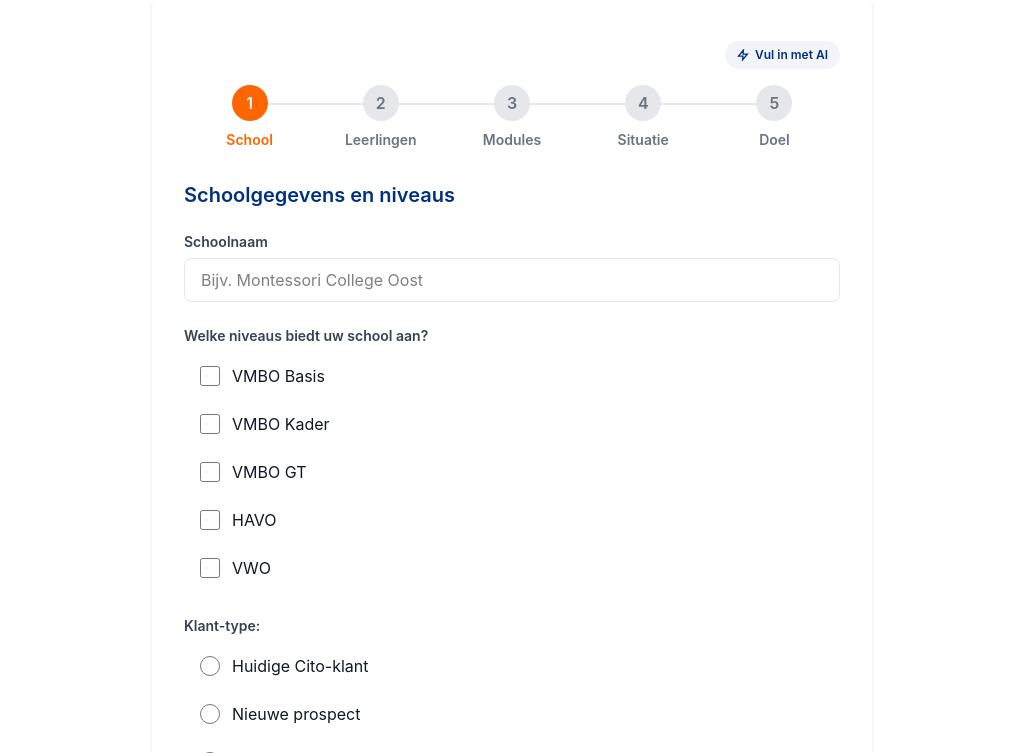
Test: WizardShell - Step rendering and navigation › "Volgende stap" button advances to step 2 when step 1 is valid
Note: Fill required fields for step 1
Type "Test School" into the field labelled "Schoolnaam" at point(512, 280), box top-left (184, 258), bottom-right (840, 302)
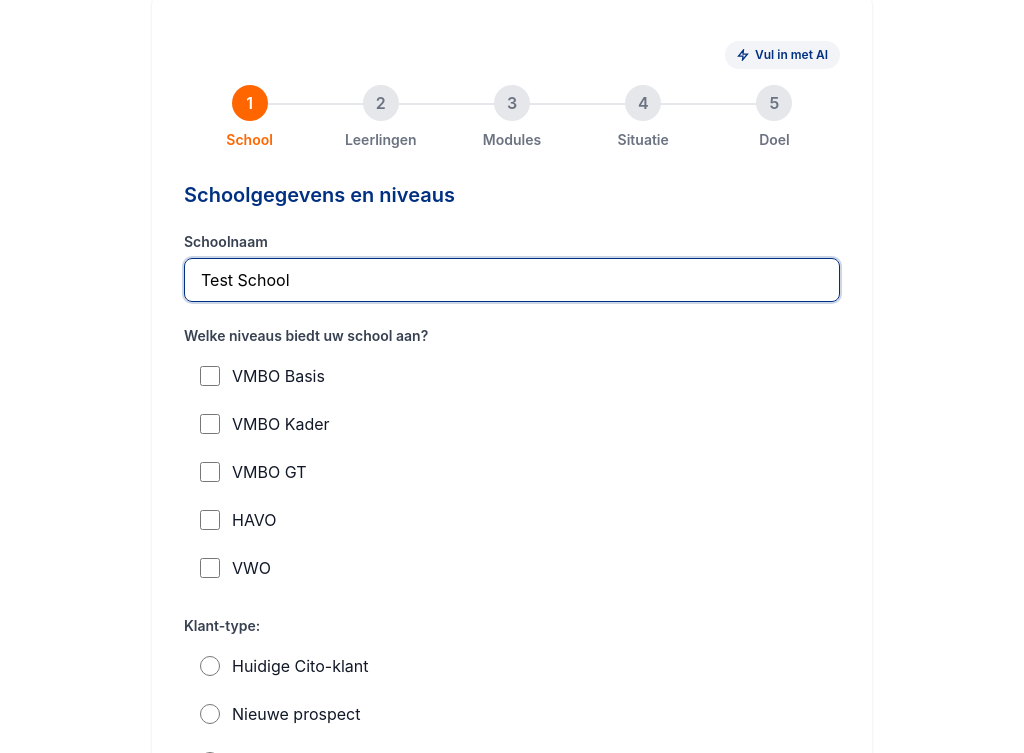
Click the checkbox labelled "HAVO" at point(210, 520), box top-left (200, 510), bottom-right (220, 530)
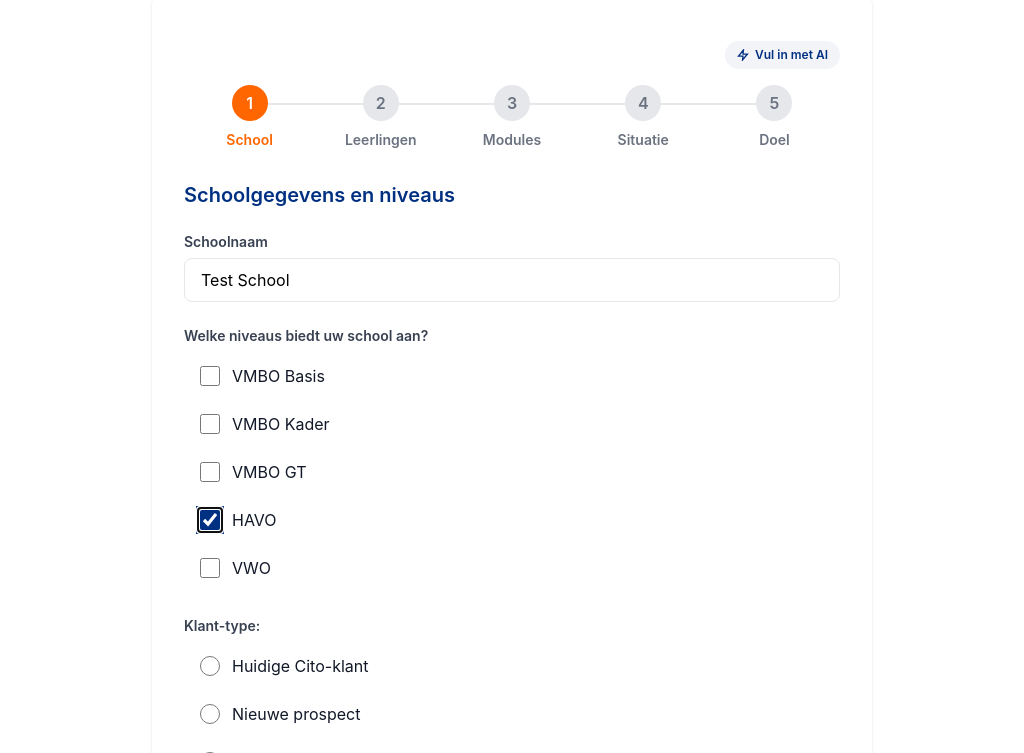
Note: Phase 27 Plan 03 (R3 + R4) — Step 1 has 3 additional required fields.
Click the radio button labelled "Huidige Cito-klant" at point(210, 666), box top-left (200, 656), bottom-right (220, 676)
(page scrolled)
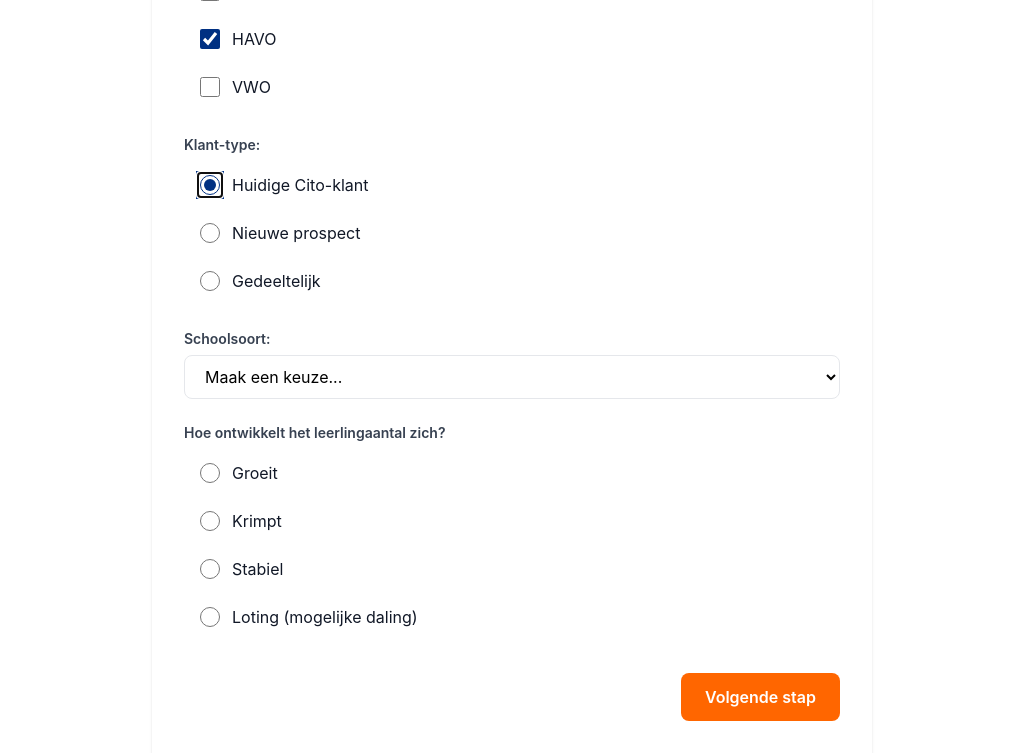
Select "Regulier" in the dropdown labelled "Schoolsoort:" at point(512, 377), box top-left (184, 355), bottom-right (840, 399)
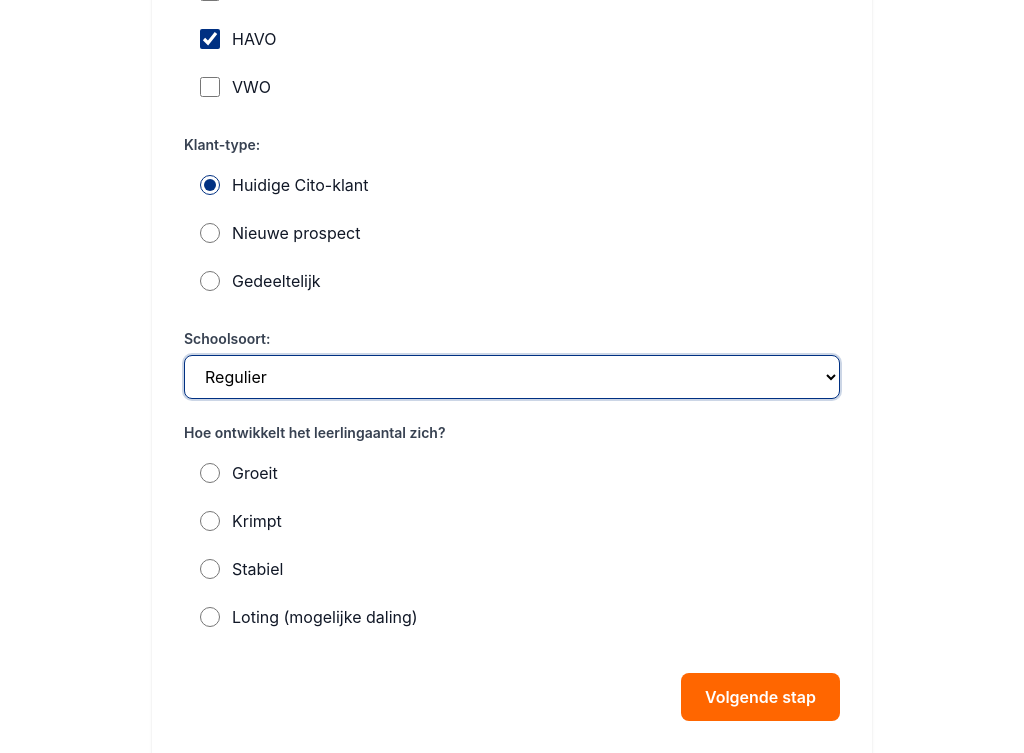
Click the radio button labelled "Groeit" at point(210, 473), box top-left (200, 463), bottom-right (220, 483)
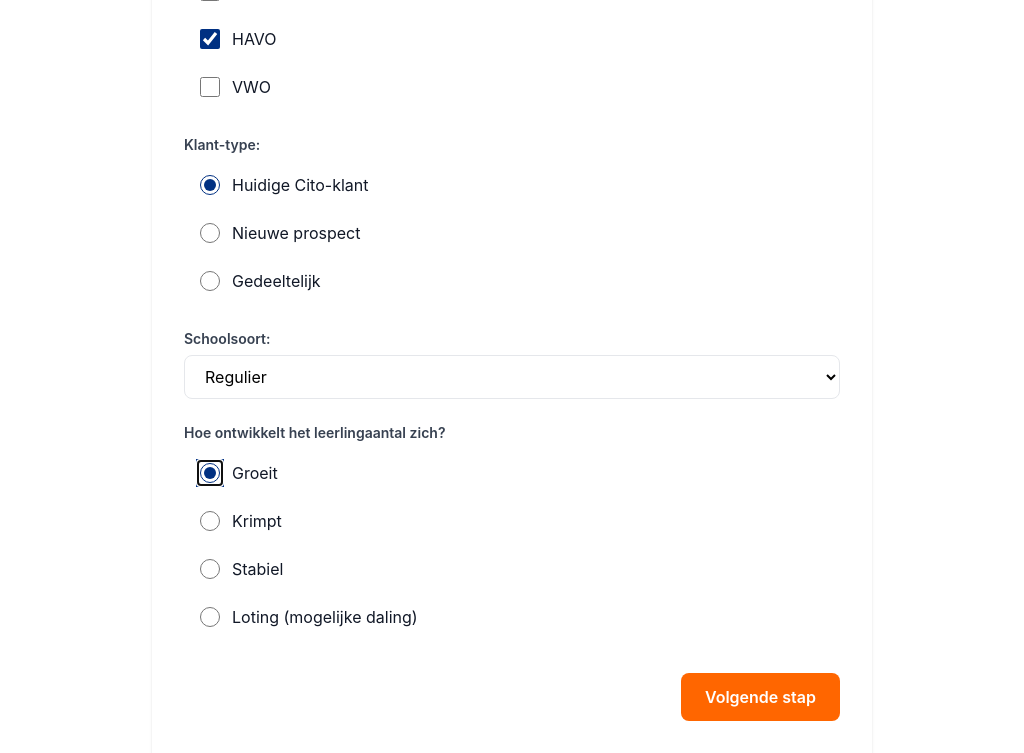
Note: Click next
Click the button "Volgende stap" at point(760, 697), box top-left (681, 673), bottom-right (840, 721)
(page scrolled)
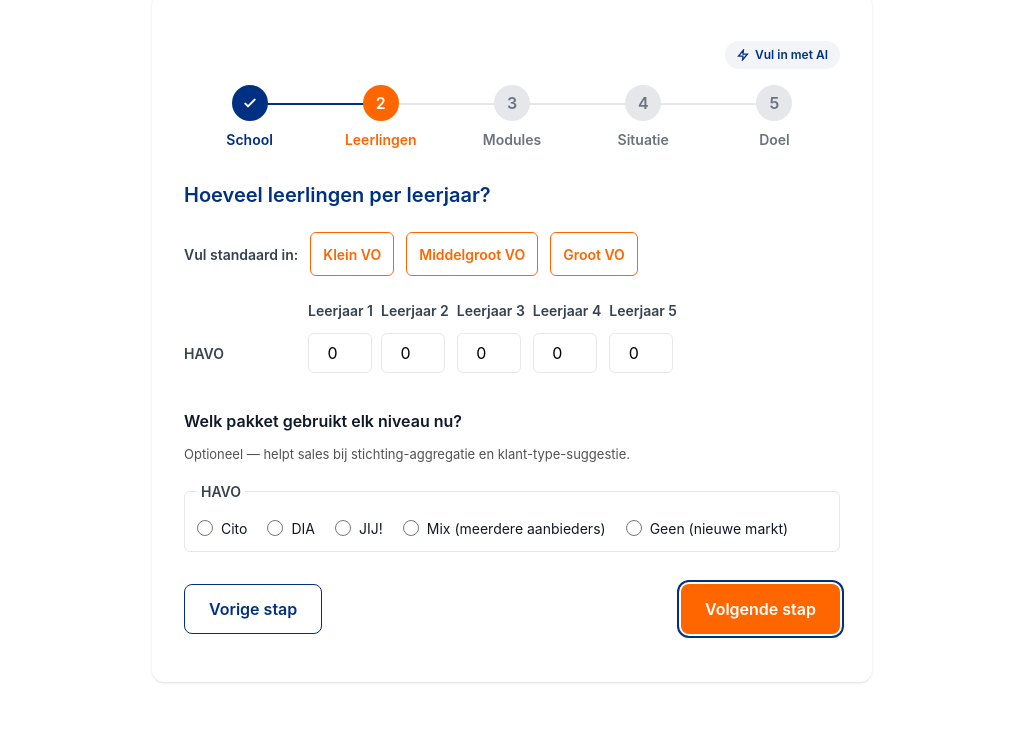
Now the heading "Hoeveel leerlingen per leerjaar?" is shown, box top-left (184, 183), bottom-right (491, 207)
